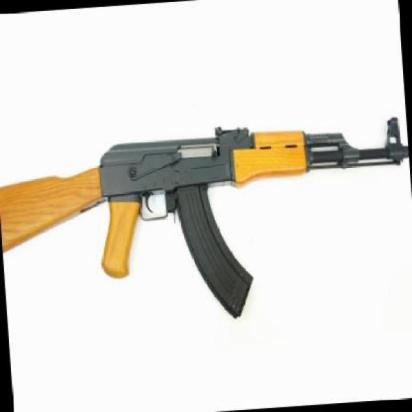Gun: (0, 87, 412, 344)
